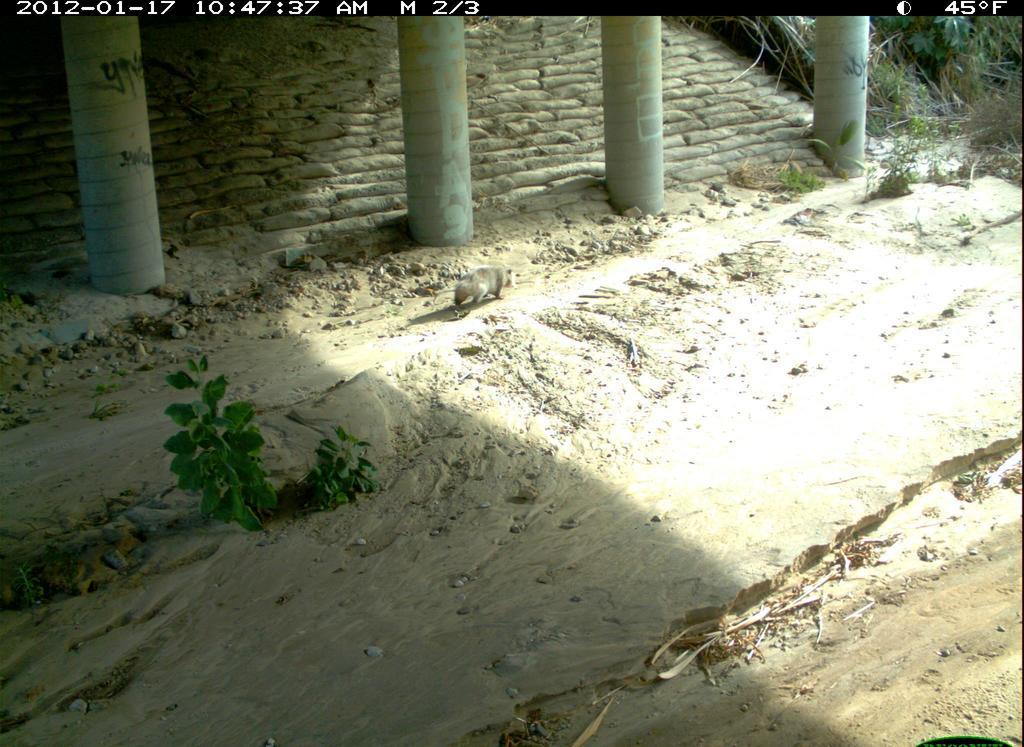opossum: (853, 525, 1024, 628)
